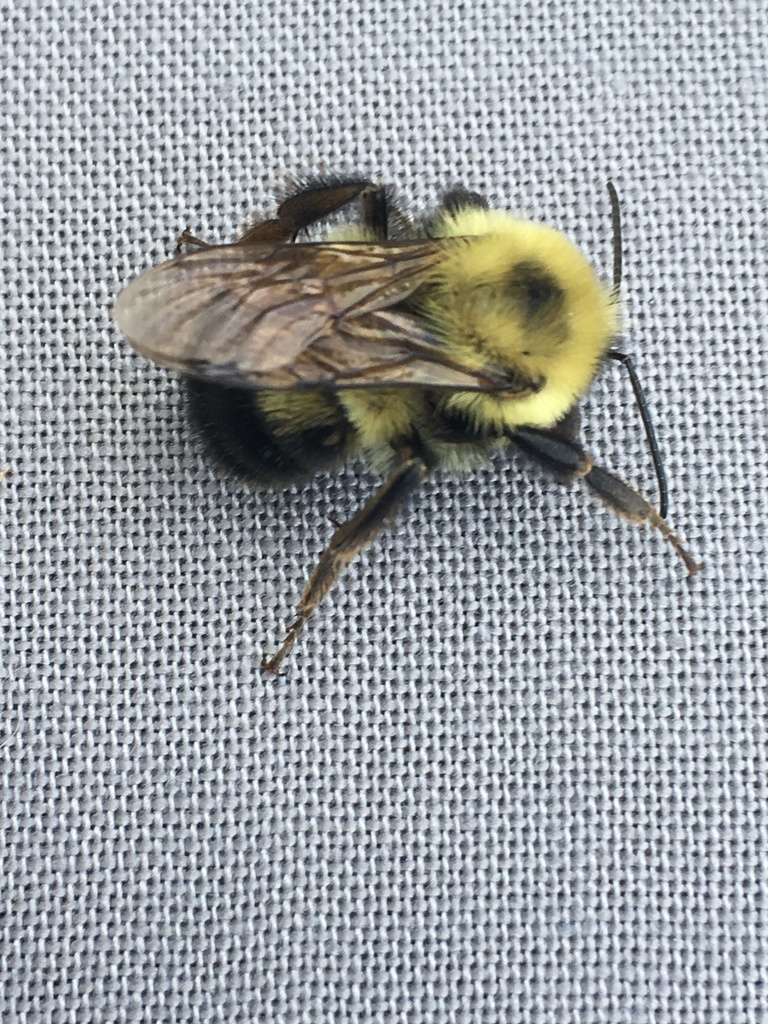bumblebee: (112, 170, 706, 678)
